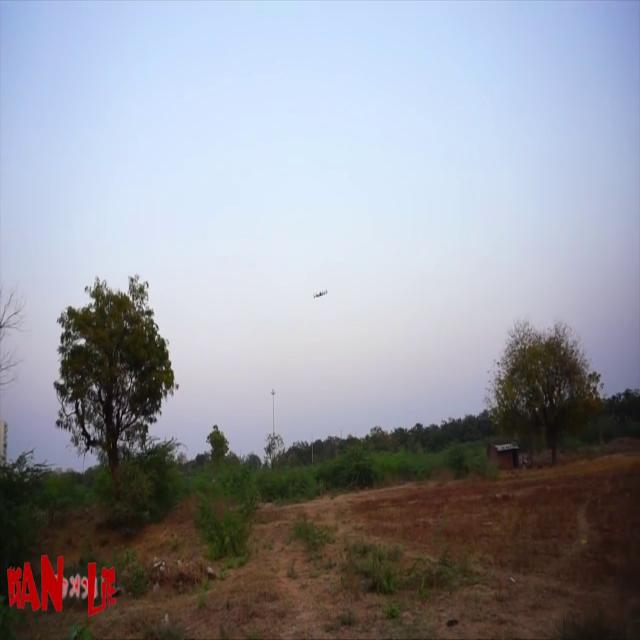drone: (306, 282, 332, 306)
